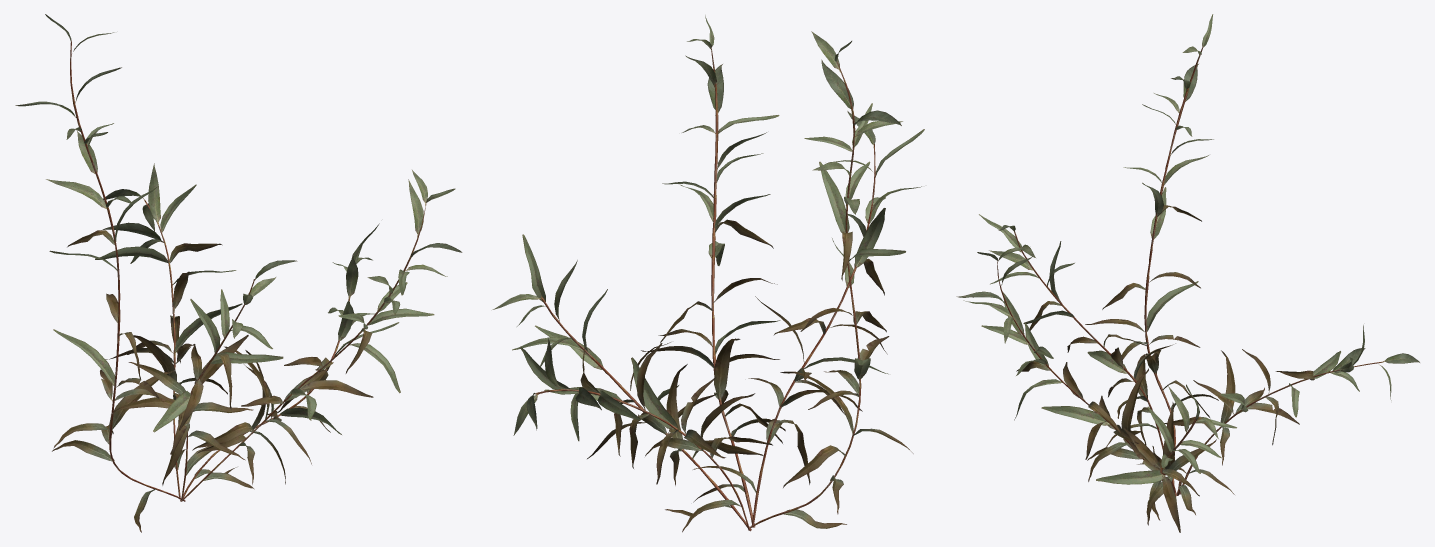
File: shrub_a.glb
3 views of the same model, side by side, from view 1: azimuth 30°, elevation 25°; view 2: azimuth 150°, elevation 25°; view 3: azimuth 270°, elevation 25° (orthographic). The views are drawn at different scales.
Parts seen in each view (by area): view 1: shrub_02_a; view 2: shrub_02_a; view 3: shrub_02_a.
Boxes of the visible parts, x1=… form: shrub_02_a: x1=15, y1=14, x2=462, y2=532; shrub_02_a: x1=492, y1=15, x2=924, y2=532; shrub_02_a: x1=956, y1=14, x2=1419, y2=532.
Size of the model in its own units: 1.31 by 1.69 by 1.64.
1 material, 1 textured.
